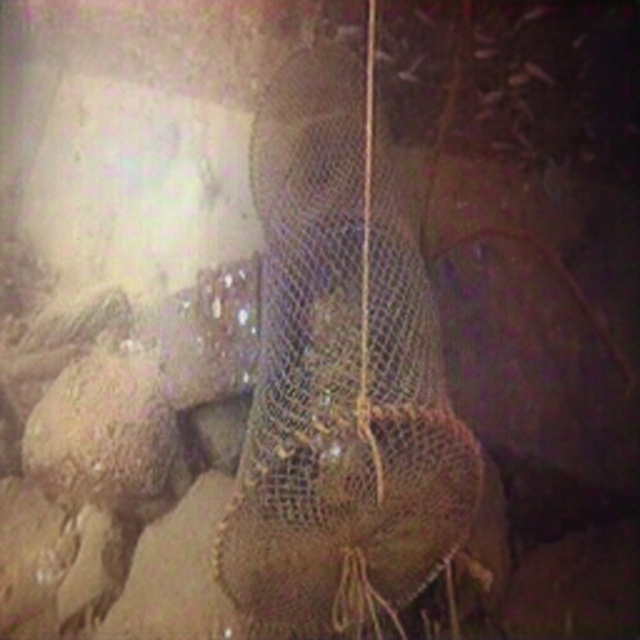mine: (211, 37, 485, 636)
